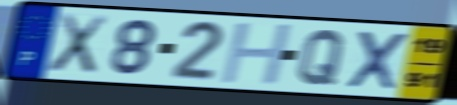2: (168, 19, 228, 84)
8: (108, 17, 157, 77)
H: (217, 22, 296, 86)
Q: (295, 28, 348, 87)
X: (343, 28, 411, 93), (45, 12, 111, 76)
